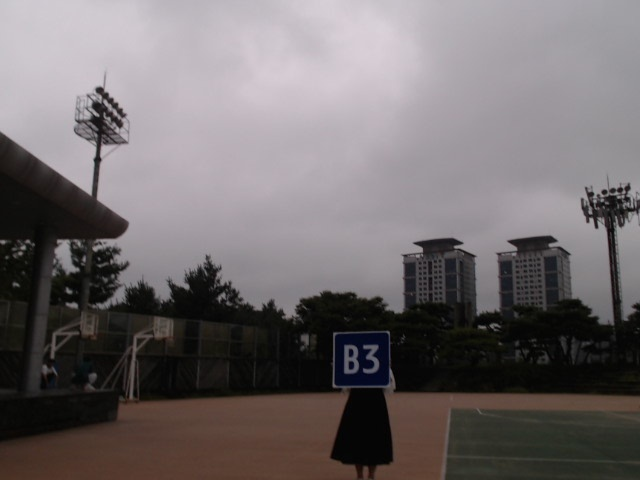delivery_b3: (334, 332, 388, 386)
